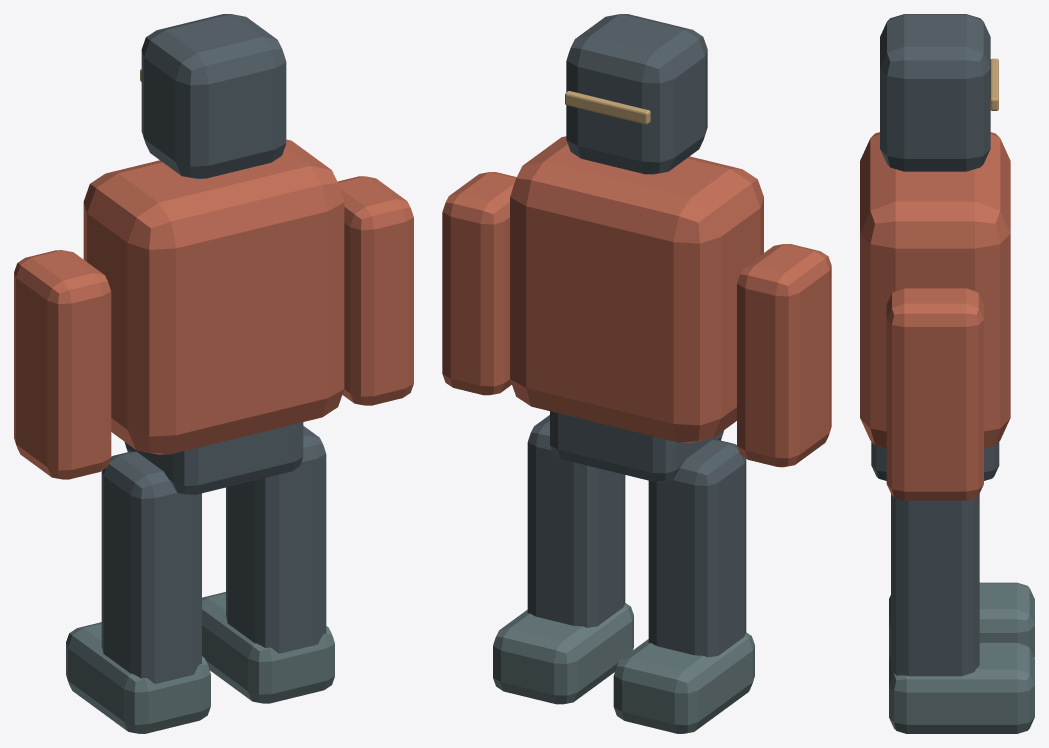
The model's file is enemy_regular.glb.
3 renders of one model, left to right at view 1: azimuth 30°, elevation 25°; view 2: azimuth 150°, elevation 25°; view 3: azimuth 270°, elevation 25°, orthographic. The views are drawn at different scales.
Parts seen in each view (by area): view 1: Angular torso, Masked head, Arm, Leg, Leg.001, Arm.001, Foot, Foot.001, Waist; view 2: Angular torso, Arm, Leg, Masked head, Leg.001, Arm.001, Foot, Foot.001, Waist, Eye slit; view 3: Angular torso, Arm.001, Masked head, Leg.001, Foot.001, Foot, Waist, Eye slit.
Boxes of the visible parts, x1,y1,x2,y2 form: Angular torso: (83, 139, 344, 454); Masked head: (141, 14, 286, 178); Arm: (14, 250, 111, 479); Leg: (101, 451, 201, 683); Leg.001: (226, 426, 326, 653); Arm.001: (338, 176, 413, 405); Foot: (66, 622, 210, 733); Foot.001: (202, 592, 334, 703); Waist: (124, 422, 303, 494); Angular torso: (510, 136, 763, 442); Arm: (737, 244, 831, 467); Leg: (648, 440, 746, 657); Masked head: (566, 14, 707, 174); Leg.001: (527, 415, 625, 627); Arm.001: (442, 172, 516, 395); Foot: (613, 632, 754, 733); Foot.001: (493, 603, 633, 704); Waist: (550, 411, 723, 482); Eye slit: (565, 91, 650, 124); Angular torso: (860, 132, 1010, 448); Arm.001: (886, 288, 983, 500); Masked head: (880, 14, 990, 171); Leg.001: (891, 494, 979, 676); Foot.001: (889, 642, 1034, 733); Foot: (889, 582, 1034, 657); Waist: (871, 442, 999, 480); Eye slit: (990, 58, 998, 110).
Size of the model in its own units: 0.94 by 1.65 by 0.395.
